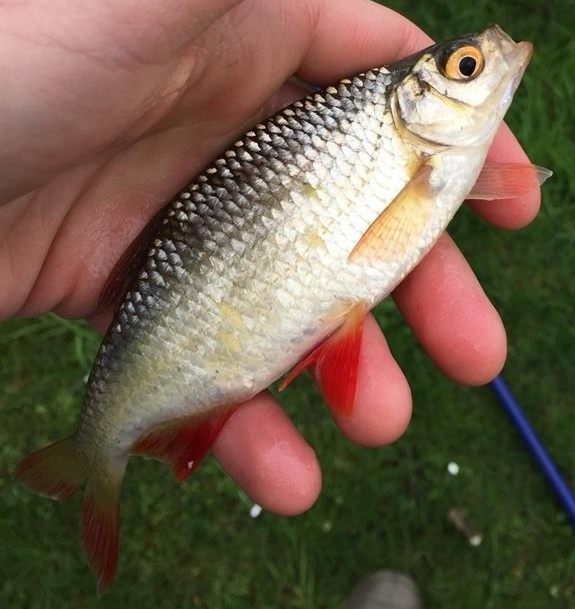Scardinius erythrophthalmus: (16, 20, 555, 589)
